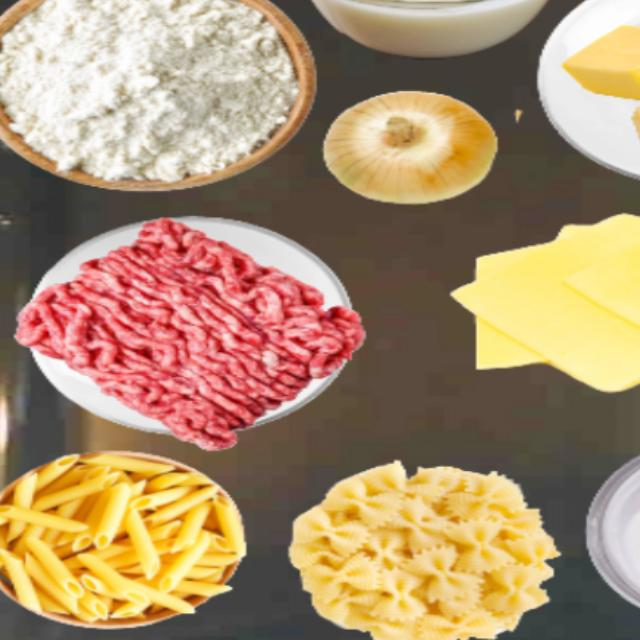Flour: (0, 0, 299, 183)
